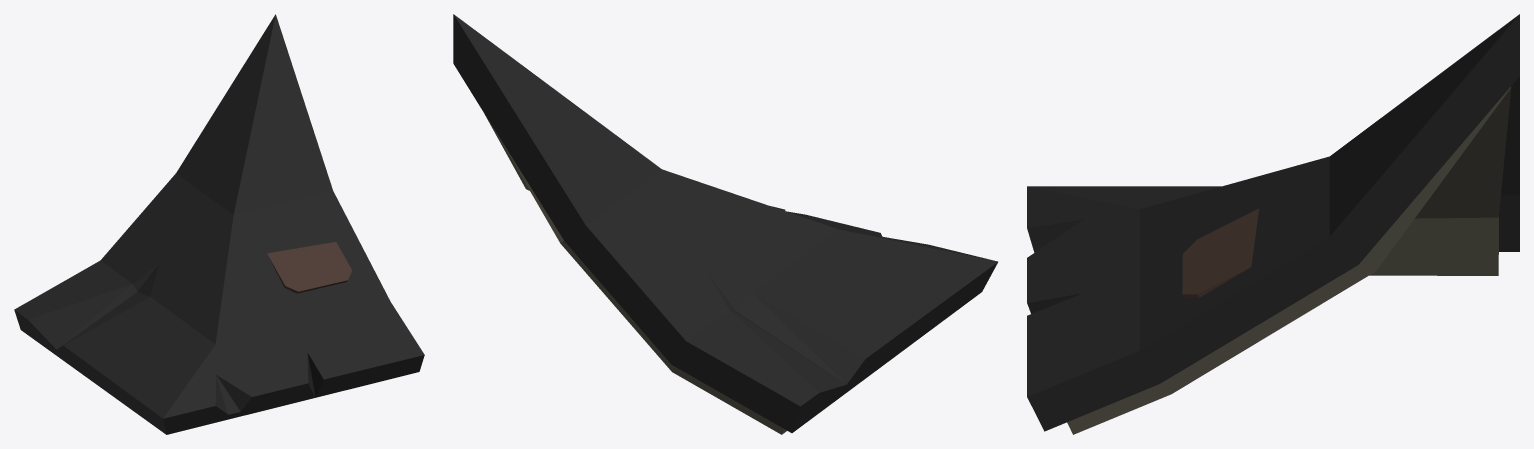
Rendered from LPHorror_RoofLowerOuterCorner.fbx.
3 renders of one model, left to right at view 1: azimuth 30°, elevation 25°; view 2: azimuth 150°, elevation 25°; view 3: azimuth 270°, elevation 25°, orthographic. The views are drawn at different scales.
Visible parts, largest first — view 1: RoofLowerOuterCorner; view 2: RoofLowerOuterCorner; view 3: RoofLowerOuterCorner.
Boxes of the visible parts, x1,y1,x2,y2 form: RoofLowerOuterCorner: (14, 14, 424, 434); RoofLowerOuterCorner: (453, 14, 997, 434); RoofLowerOuterCorner: (1027, 14, 1519, 434).
Size of the model in its own units: 263 by 252 by 259.
